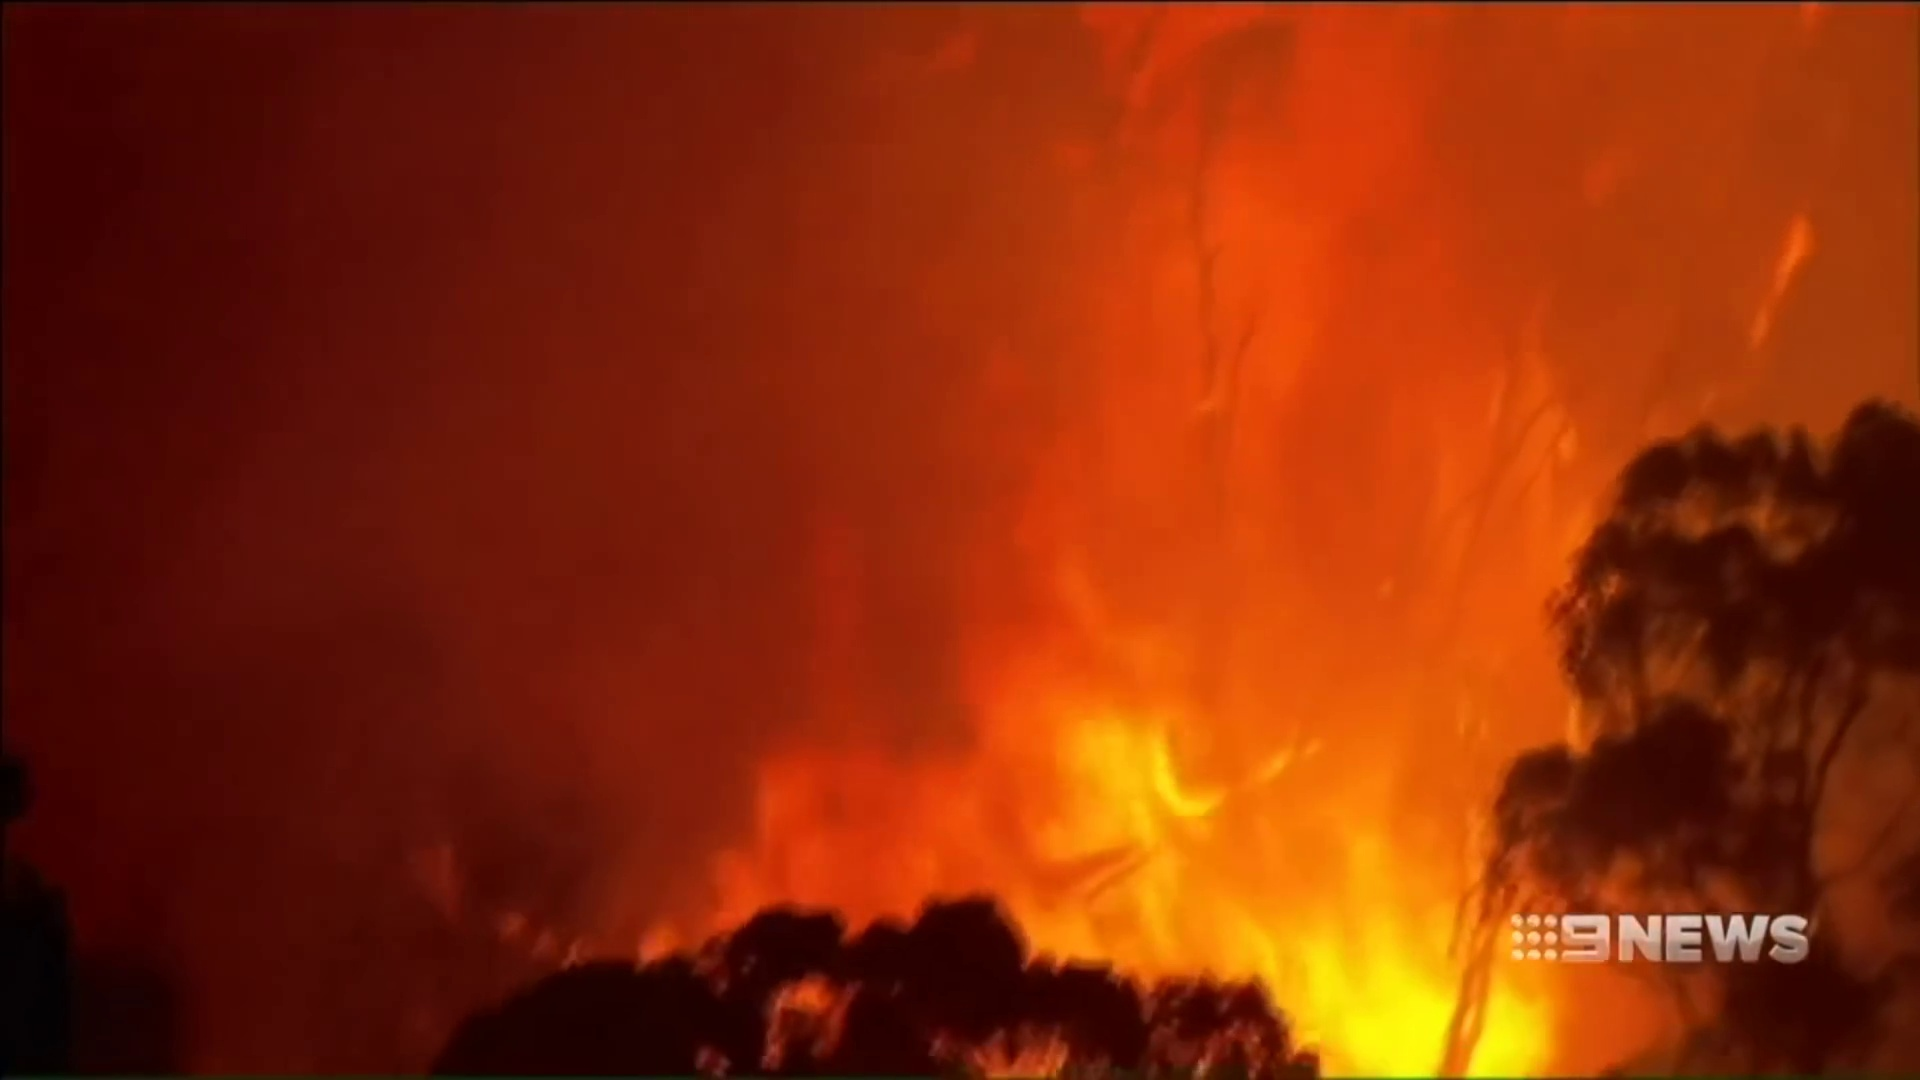fire: (1328, 963, 1563, 1080)
